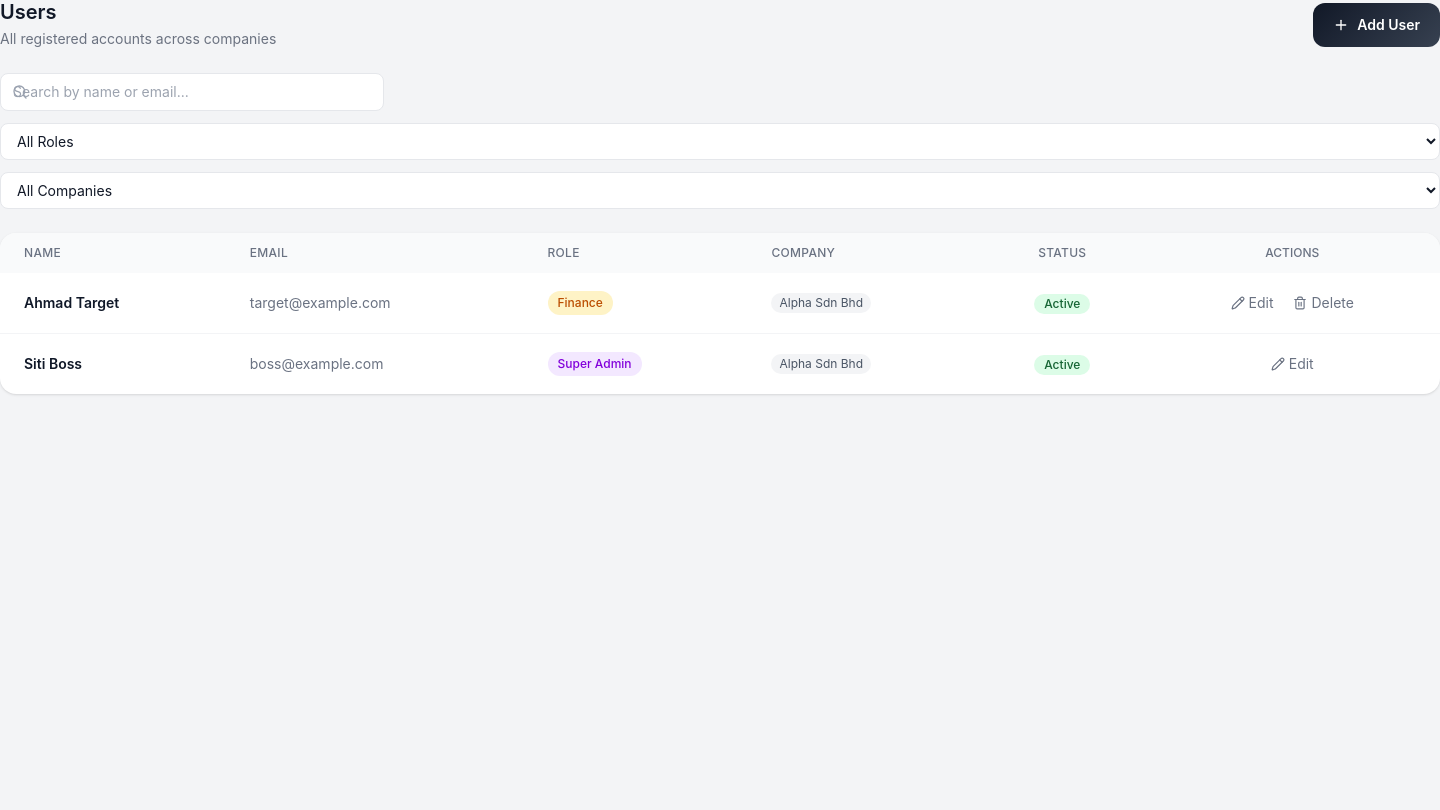
it: UserManagement — create form › exposes the dialog with an accessible name and closes on Escape
The width and height of the screenshot is (1440, 810).
Click the button "Add User" at (1377, 24), box [1313,2,1439,46]
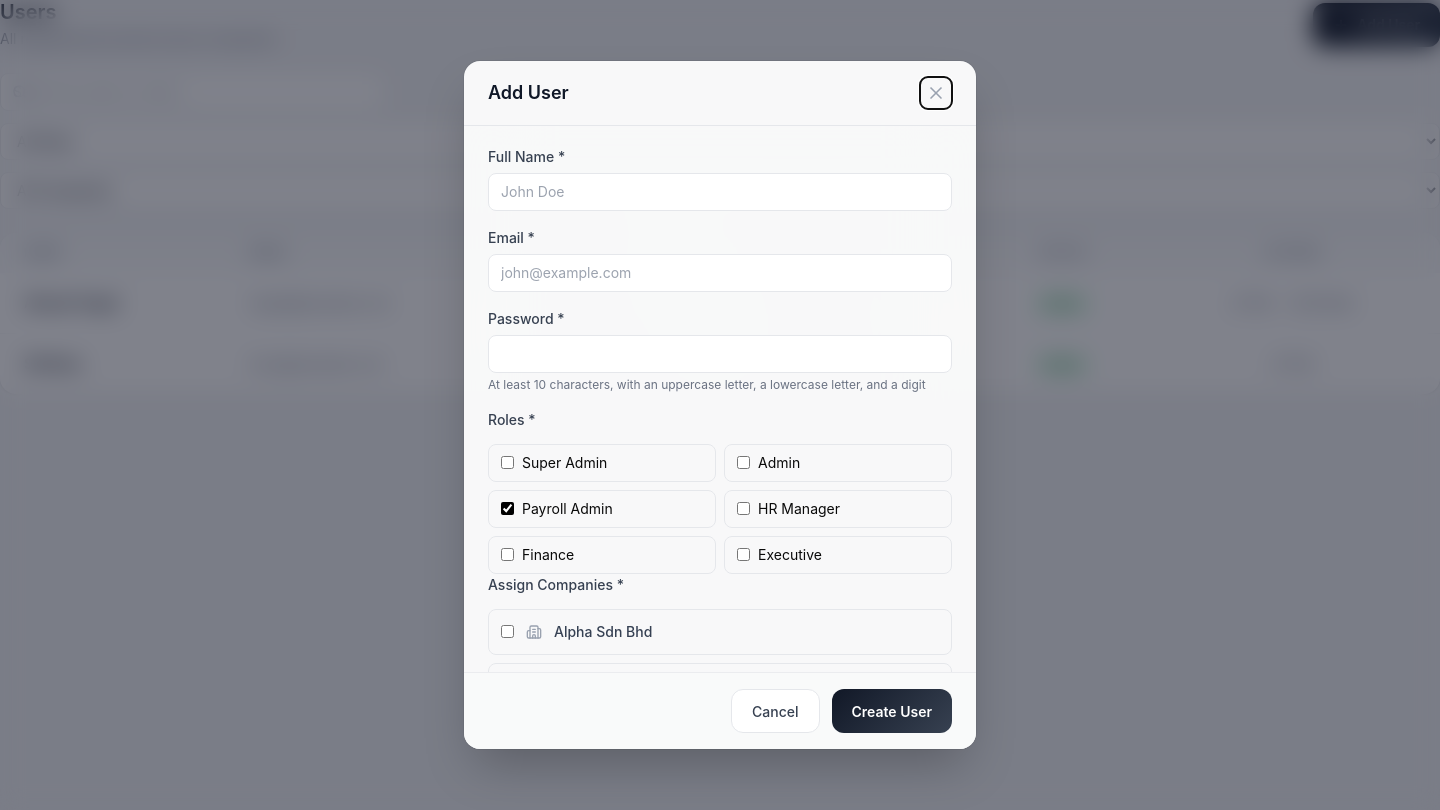
Press Escape
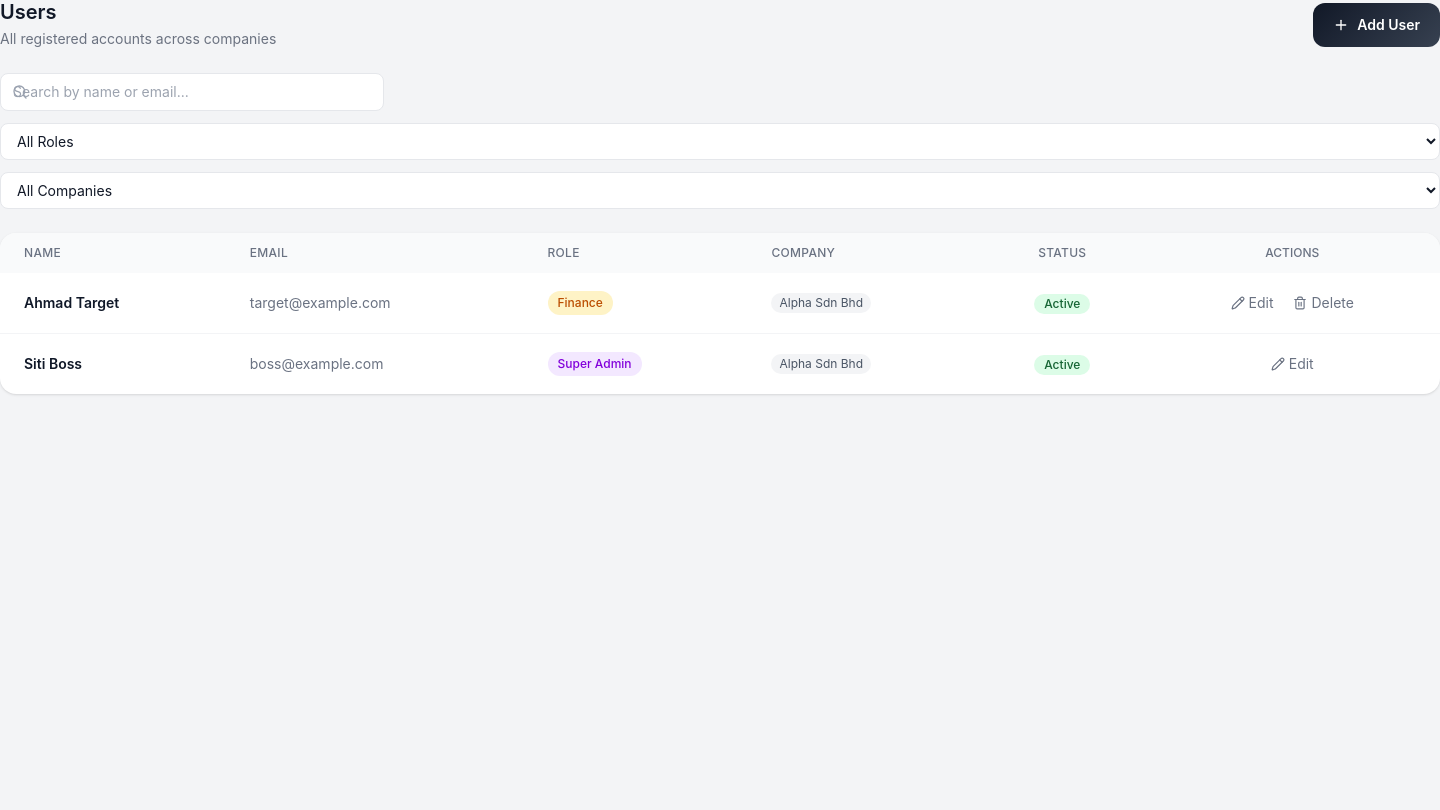
Result: the dialog is gone
